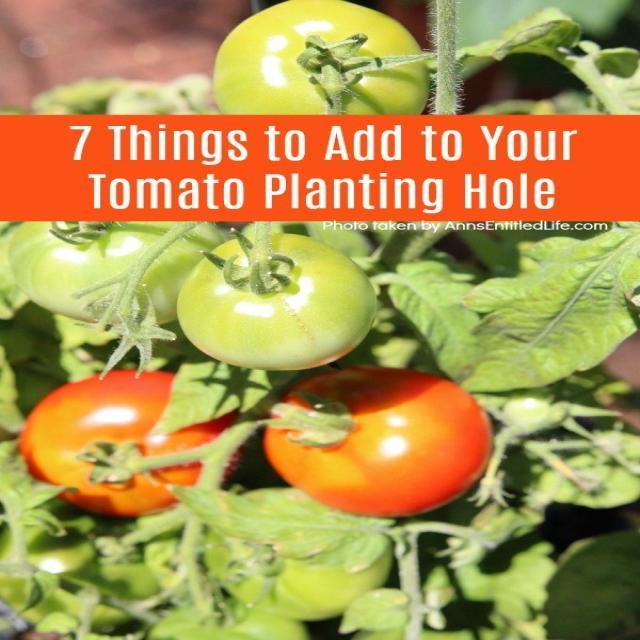sari: (24, 354, 246, 520)
yesil: (218, 20, 414, 120), (166, 256, 354, 358)
